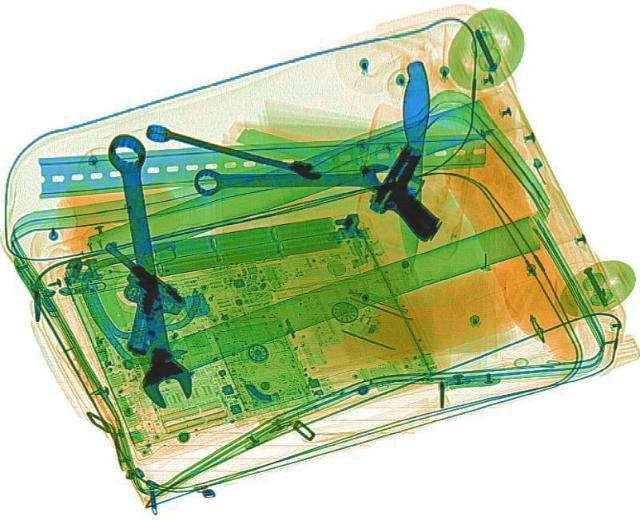Gun: (44, 237, 205, 357), (354, 142, 476, 240)
Knife: (397, 59, 429, 267)
Wrench: (102, 130, 194, 409), (142, 121, 324, 180), (192, 162, 394, 195)
